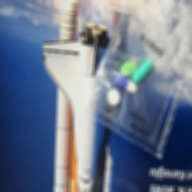러키펜정: (107, 89, 121, 107)
씨엠지세파클러캡슐: (115, 75, 137, 94)
에르도캡슐: (131, 59, 154, 84)
휴티렌정: (119, 61, 139, 78)
